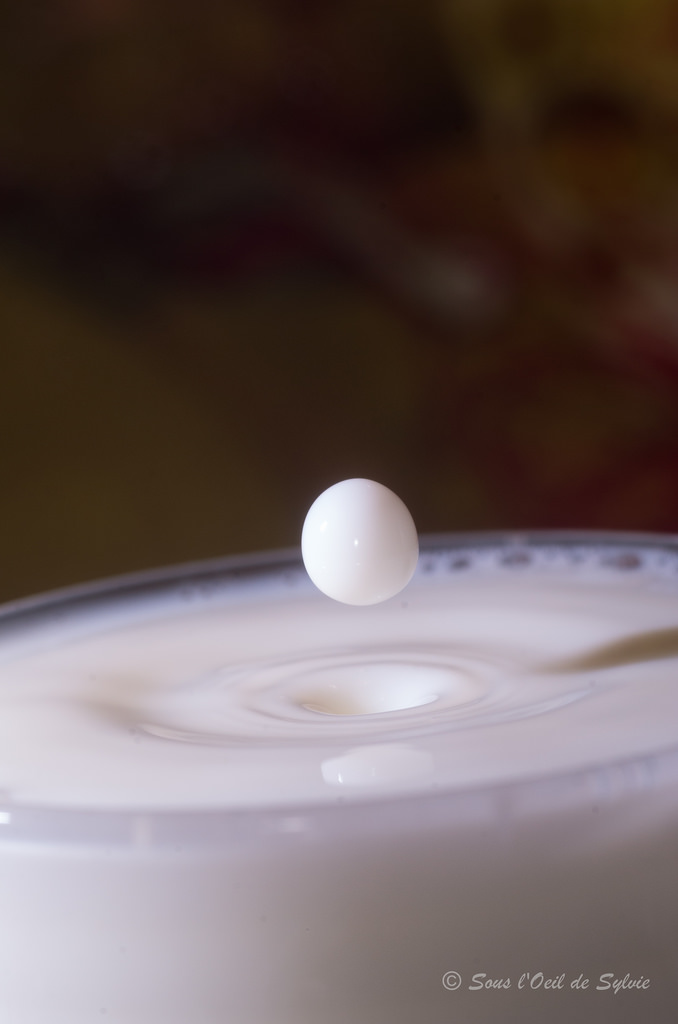glass of milk: (68, 552, 678, 939)
